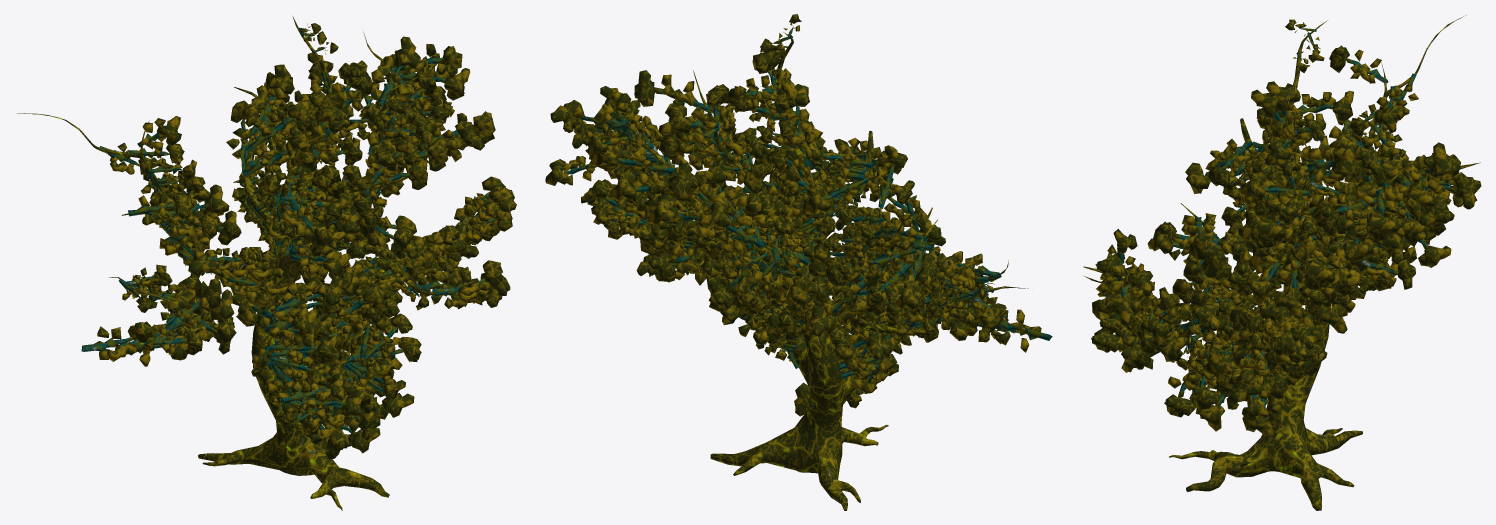
Rendered from Vegetation-Tree1.fbx.
The picture shows the model from 3 angles, left to right: view 1: azimuth 30°, elevation 25°; view 2: azimuth 150°, elevation 25°; view 3: azimuth 270°, elevation 25°; orthographic projection. The views are drawn at different scales.
Visible parts, largest first — view 1: Tree-1.LOD0; view 2: Tree-1.LOD0; view 3: Tree-1.LOD0.
Part boxes in pixels (<box>): Tree-1.LOD0: <box>17,16,516,510</box>; Tree-1.LOD0: <box>545,14,1052,510</box>; Tree-1.LOD0: <box>1083,15,1481,510</box>.
Size of what is drawn, in the model's own units: 9.06 by 8.61 by 6.76.
1 material, 1 textured.
